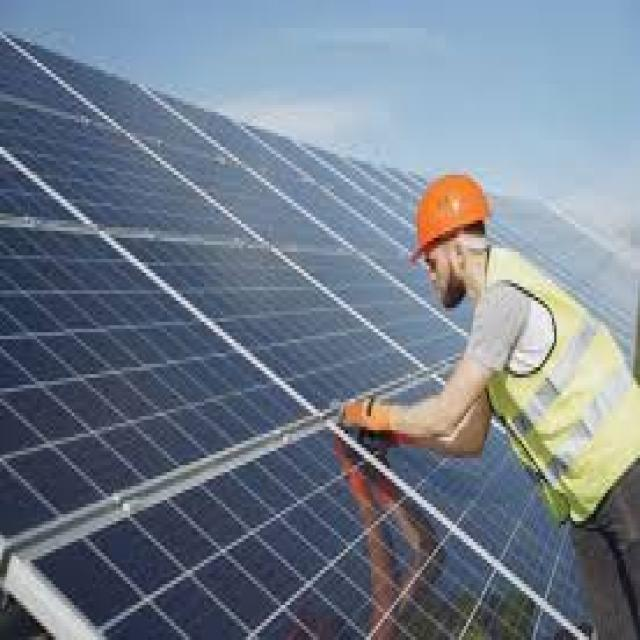clean-solar-panel: (1, 32, 640, 637)
